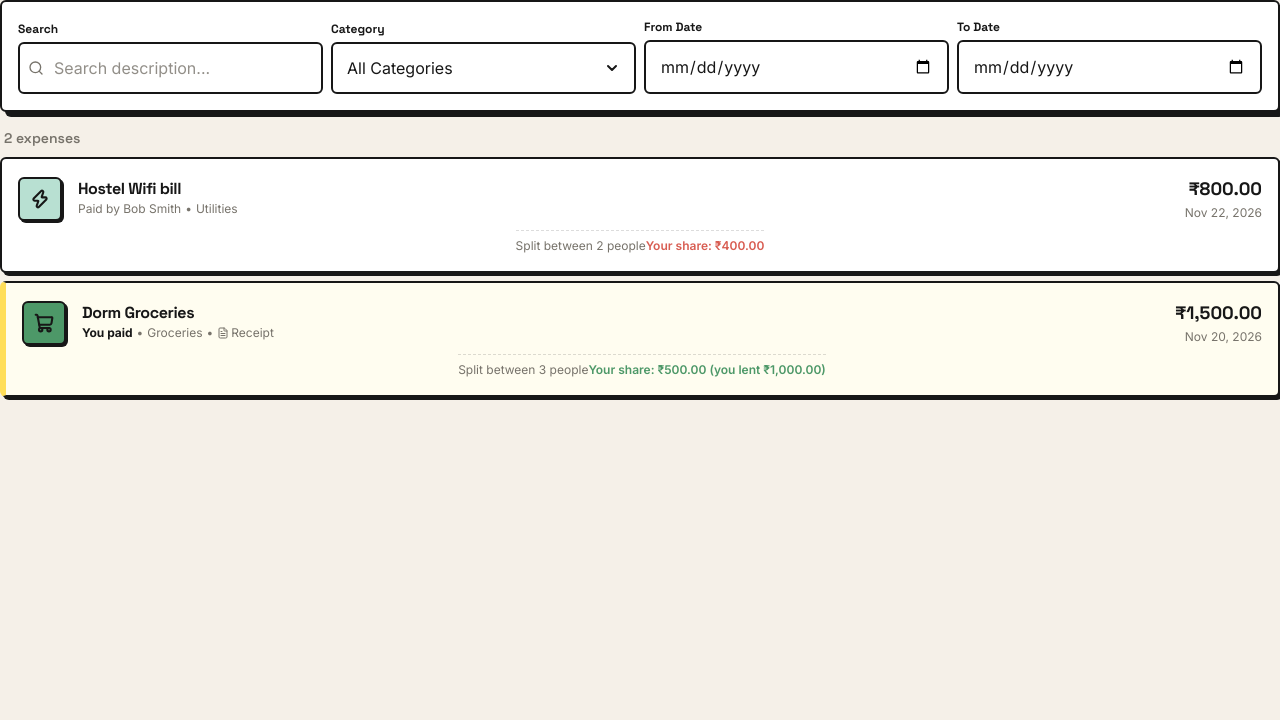
Test: Expense Components › ExpenseList Component › clears filters when Clear Filters button is clicked
Step 1. Type "nonexistent" into the field with placeholder "Search description..." → x=170, y=68, box [18,42,323,94]
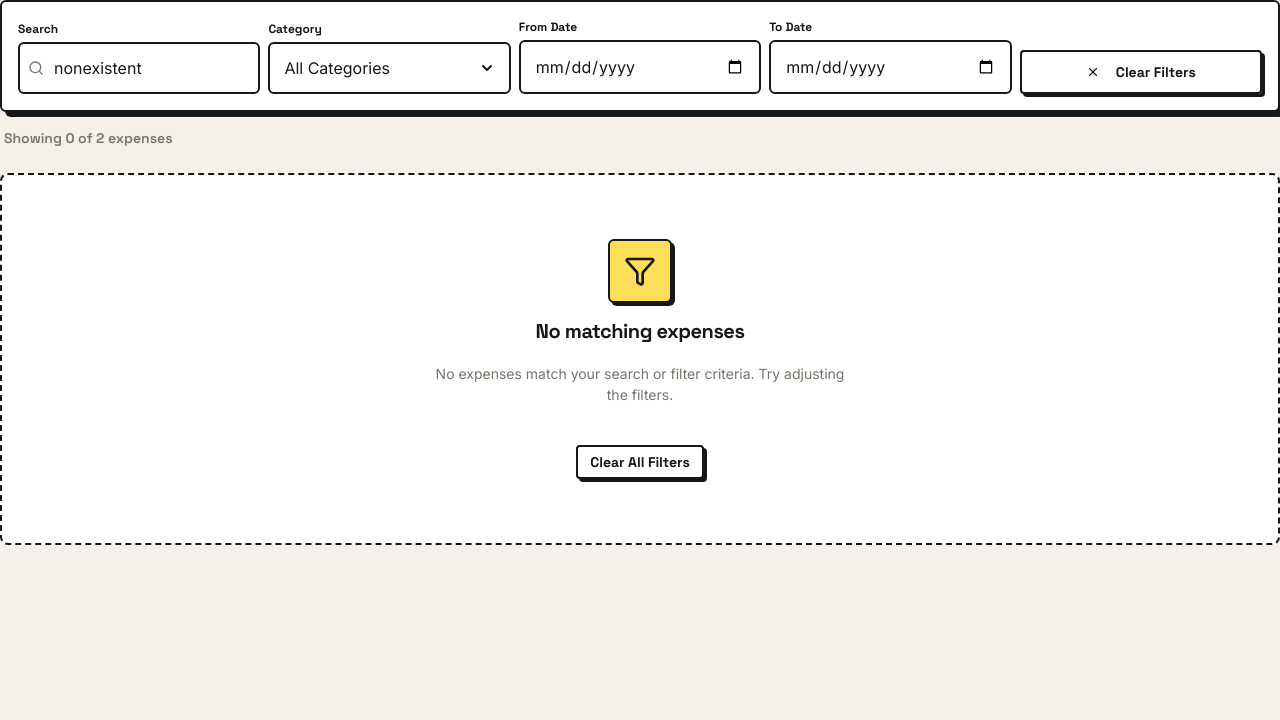
Check: the heading "No matching expenses" is shown, box [536,319,744,343]
Step 2. Click the button "Clear All Filters" → x=640, y=462, box [576,445,704,479]
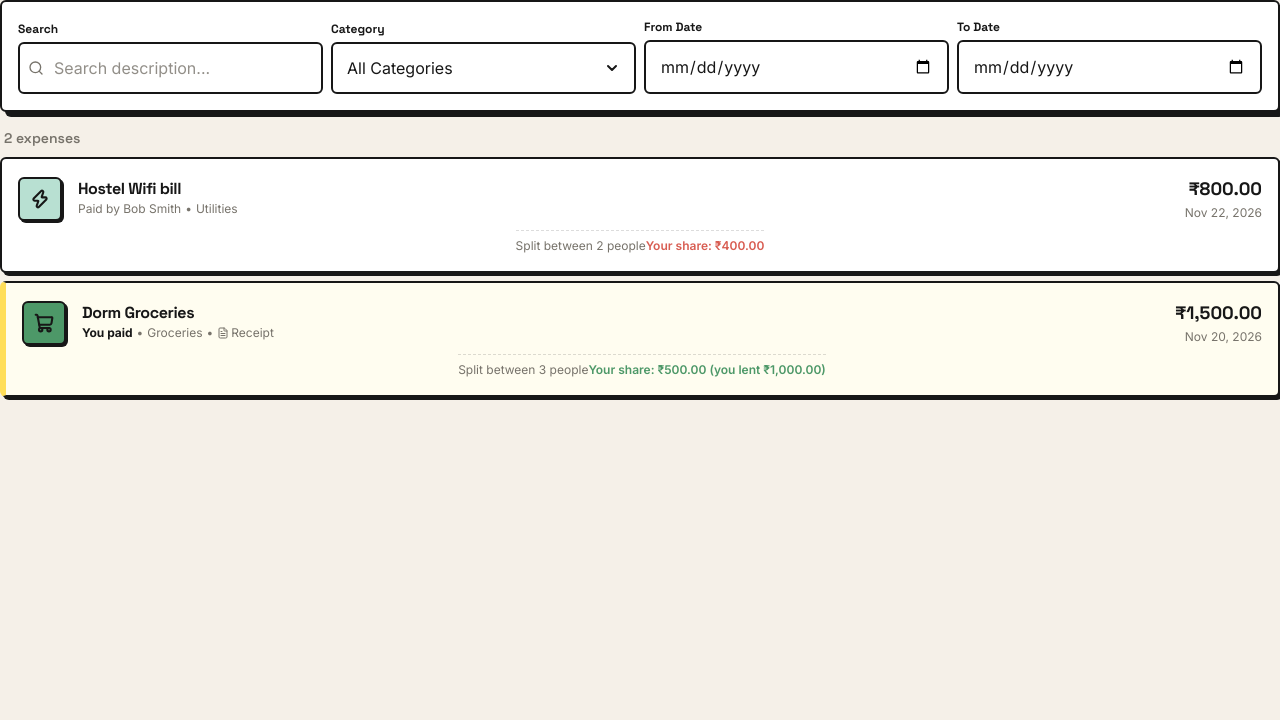
Check: the heading "Dorm Groceries" is shown, box [82,302,194,323]
Check: the heading "Hostel Wifi bill" is shown, box [78,178,181,199]
